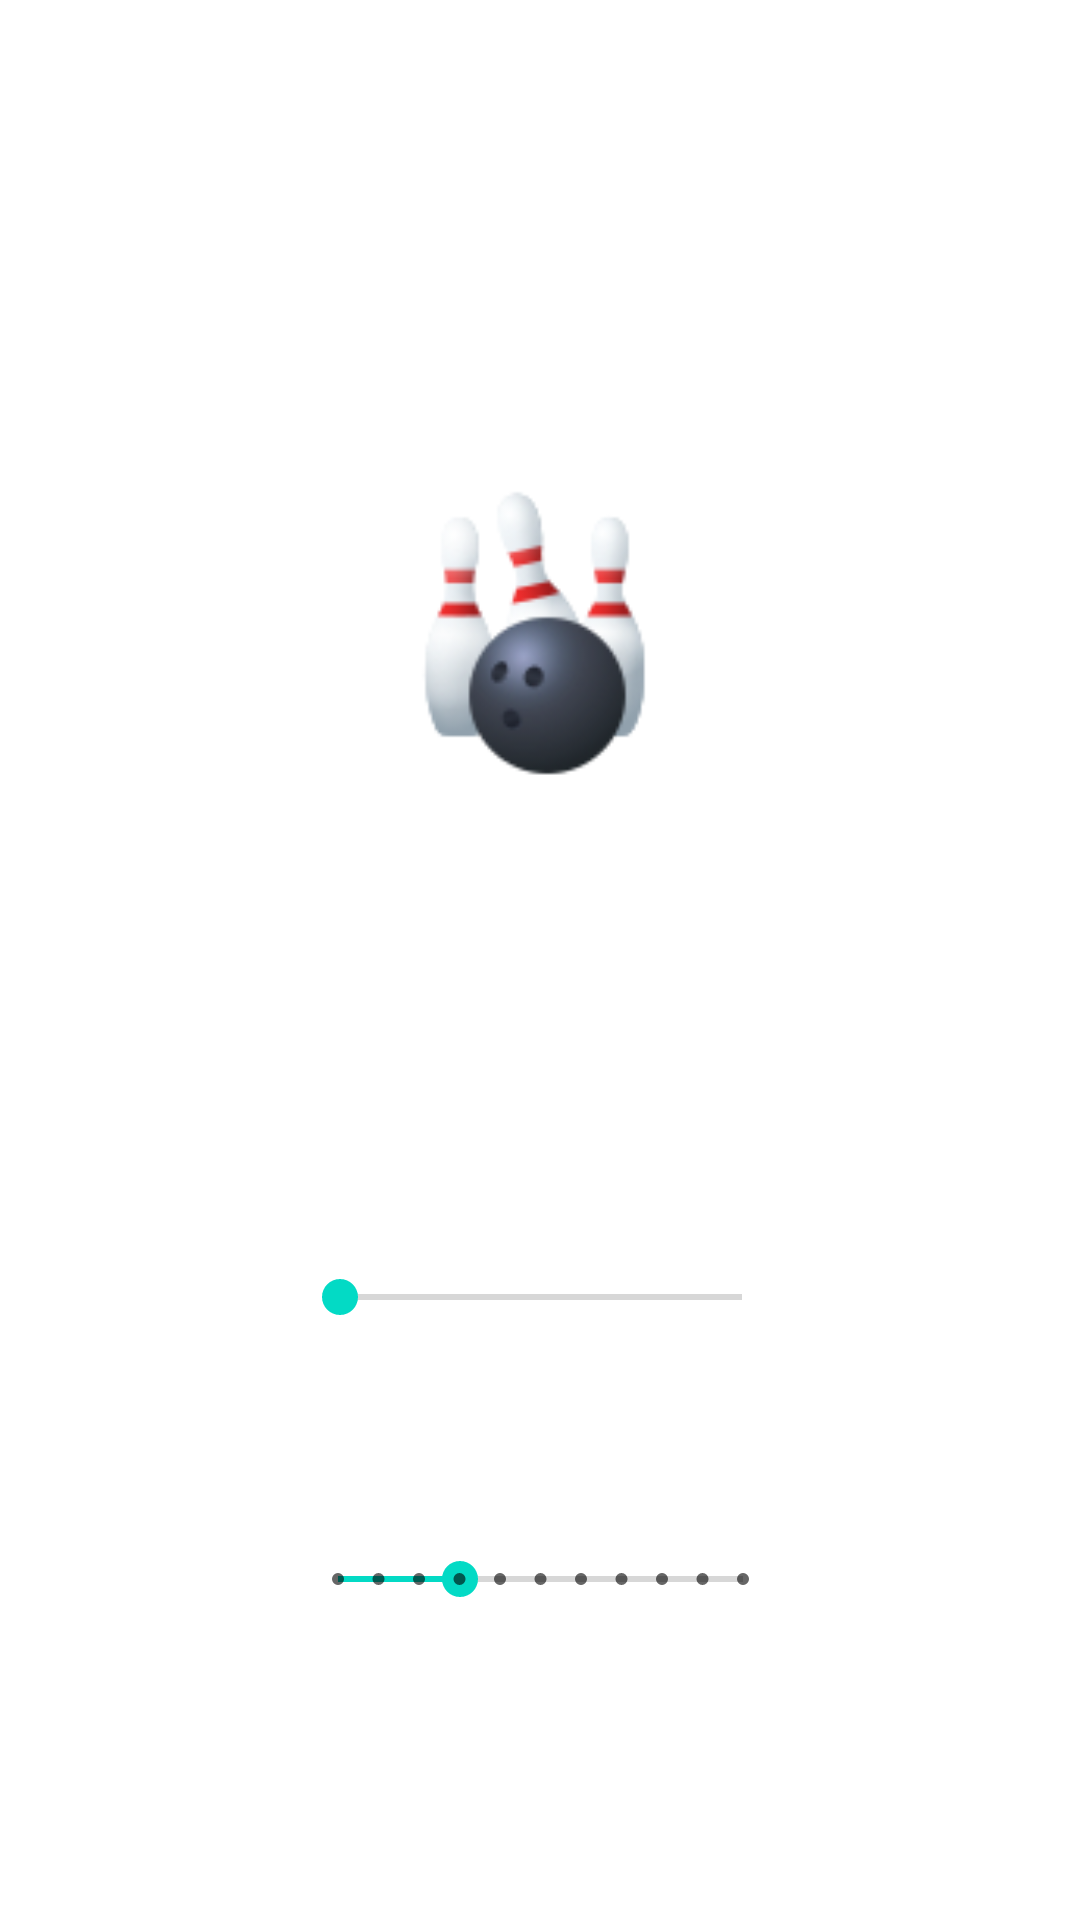

Icons on this 1080×1920 Android screen, each with the point to tap as (x,y):
bowling: (535,634)
